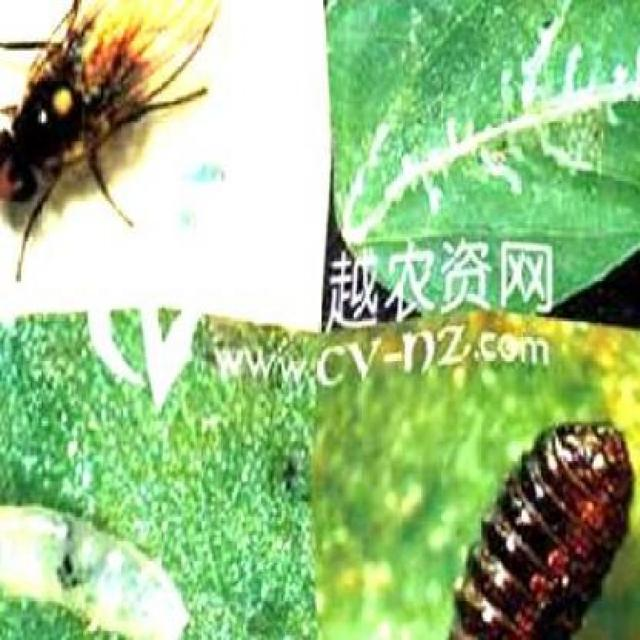whorl-maggot: (450, 409, 636, 640), (2, 469, 218, 640)
